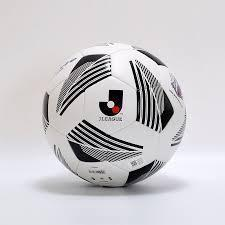Sports-Ball: (43, 40, 187, 184)
